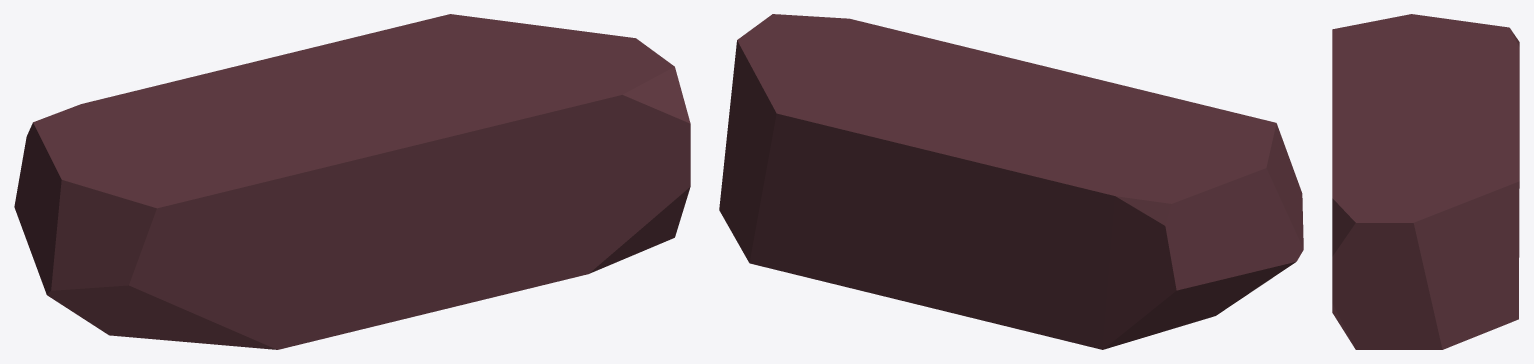
The model's file is egypt-egypt-stone-block.glb.
The picture shows the model from 3 angles, left to right: view 1: azimuth 30°, elevation 25°; view 2: azimuth 150°, elevation 25°; view 3: azimuth 270°, elevation 25°; orthographic projection. The views are drawn at different scales.
Parts seen in each view (by area): view 1: egypt-stone-block; view 2: egypt-stone-block; view 3: egypt-stone-block.
Part boxes in pixels (left/top/right/bottom): egypt-stone-block: left=14, top=14, right=690, bottom=349; egypt-stone-block: left=719, top=14, right=1303, bottom=349; egypt-stone-block: left=1332, top=14, right=1519, bottom=349.
Bounding box in the file's own units: 8.83 × 2.4 × 3.2.
